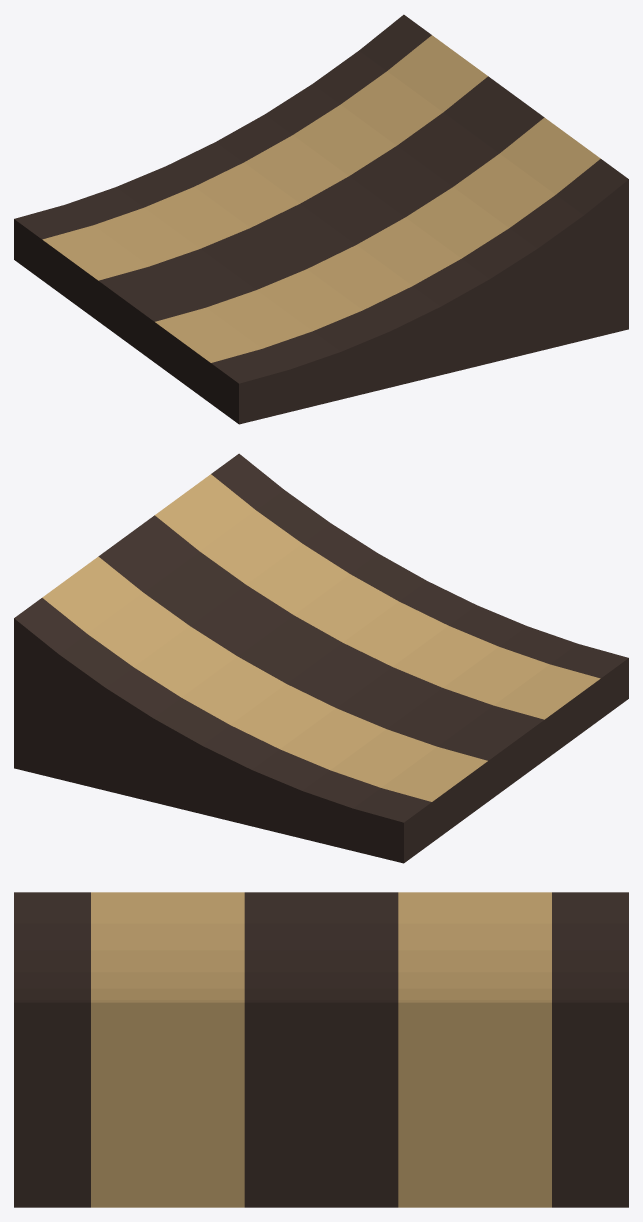
Rendered from JumpRamp.fbx.
3 views of the same model, one above another, from view 1: azimuth 30°, elevation 25°; view 2: azimuth 150°, elevation 25°; view 3: azimuth 270°, elevation 25° (orthographic). The views are drawn at different scales.
Visible parts, largest first — view 1: Ramp; view 2: Ramp; view 3: Ramp.
Part boxes in pixels (box(x1,y1,x2,y2)): Ramp: box(14, 14, 628, 424); Ramp: box(14, 453, 628, 863); Ramp: box(14, 892, 628, 1207).
Bounding box in the file's own units: 2000 × 736 × 2000.
